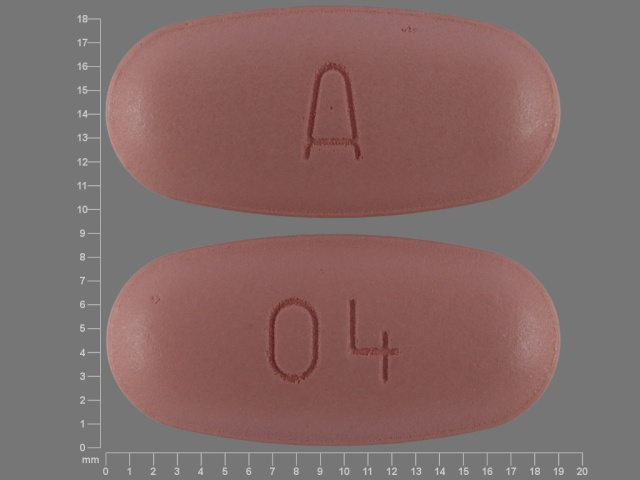0: (266, 294, 321, 382)
4: (344, 294, 400, 382)
A: (298, 59, 364, 165)
